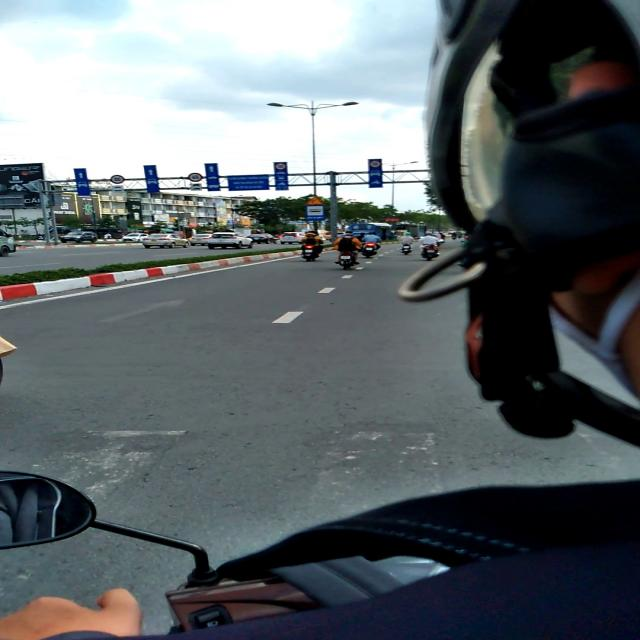P.127: (188, 172, 204, 182), (110, 175, 125, 184), (369, 160, 381, 168), (274, 163, 287, 170)
R.434: (306, 206, 325, 220)
W.201b: (306, 195, 324, 205)
